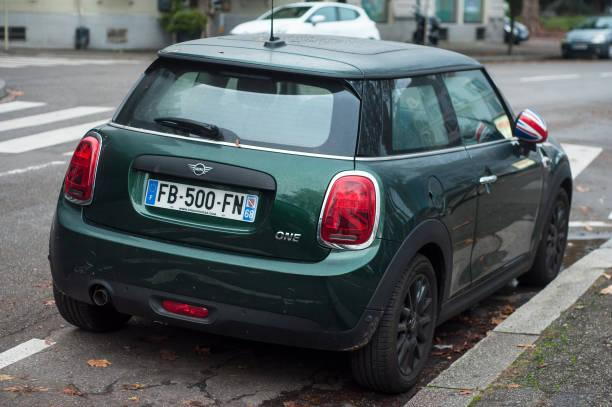mini: (182, 154, 220, 187)
